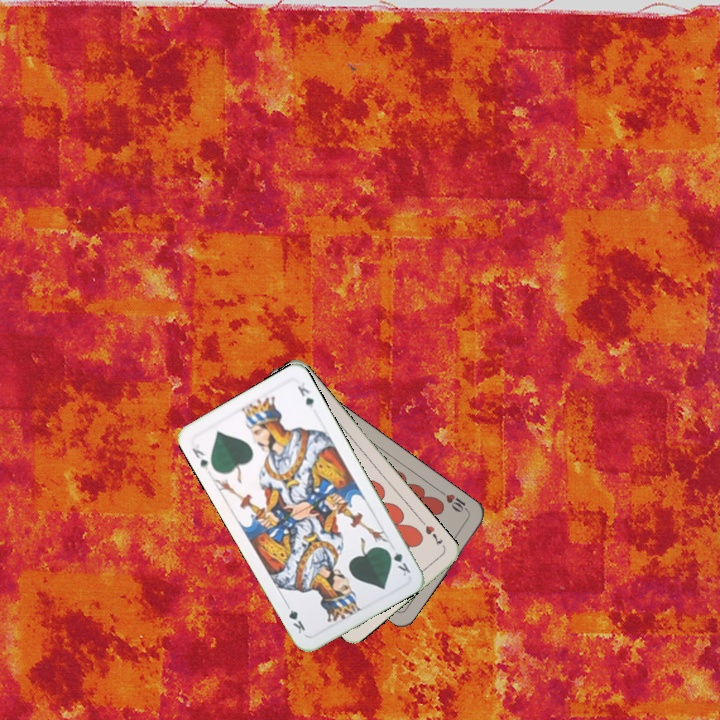GK: (382, 545, 413, 579), (188, 444, 211, 473)
H10: (436, 487, 472, 515)
H7: (421, 521, 446, 549)
